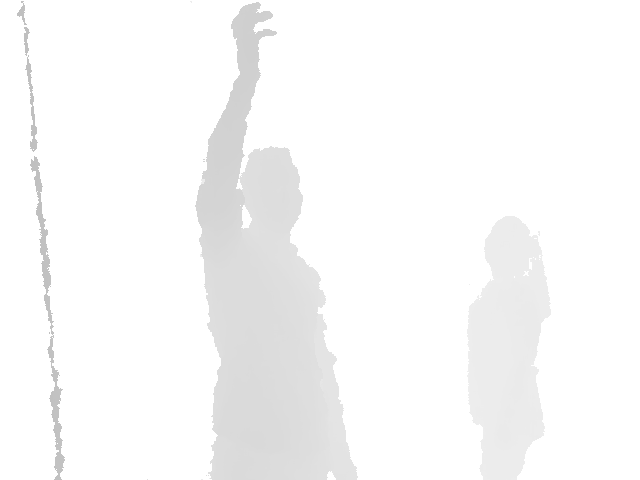hand: (230, 1, 279, 76)
head: (240, 146, 304, 232), (483, 215, 547, 277)
person: (194, 1, 360, 480), (464, 216, 552, 480)
